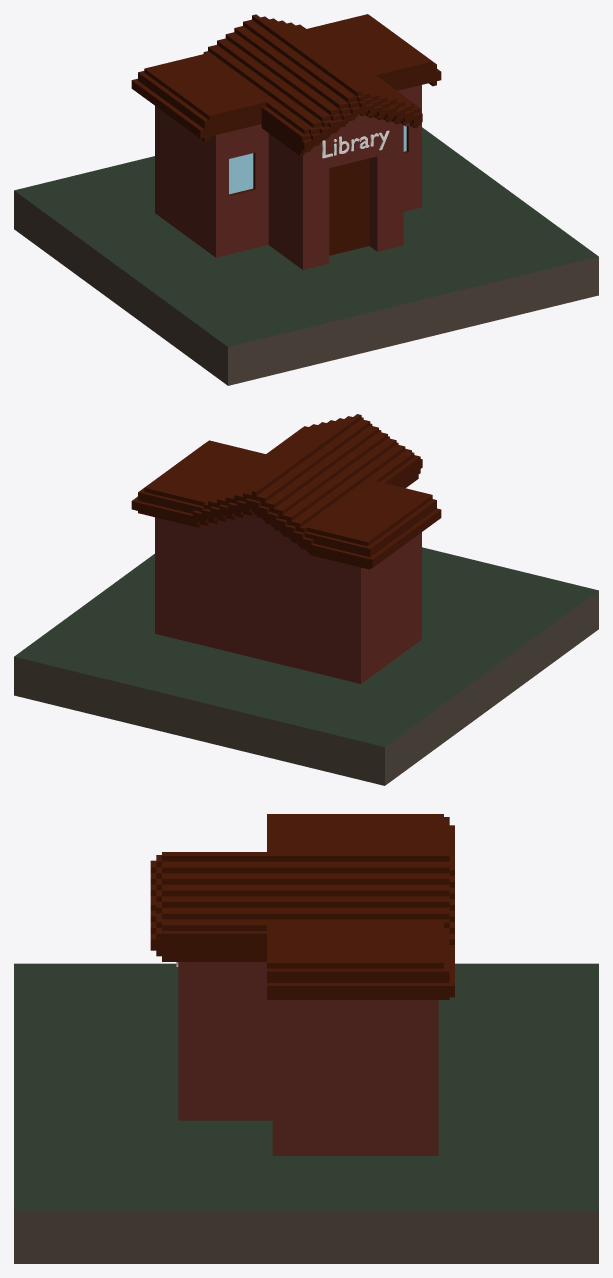
The model's file is library-1.glb.
3 views of the same model, one above another, from view 1: azimuth 30°, elevation 25°; view 2: azimuth 150°, elevation 25°; view 3: azimuth 270°, elevation 25° (orthographic). The views are drawn at different scales.
Visible parts, largest first — view 1: Grid.095; view 2: Grid.095; view 3: Grid.095.
Part boxes in pixels (<box>): Grid.095: <box>14,14,598,385</box>; Grid.095: <box>14,414,598,785</box>; Grid.095: <box>14,814,598,1263</box>.
Size of the model in its own units: 1 by 0.5387 by 1.
